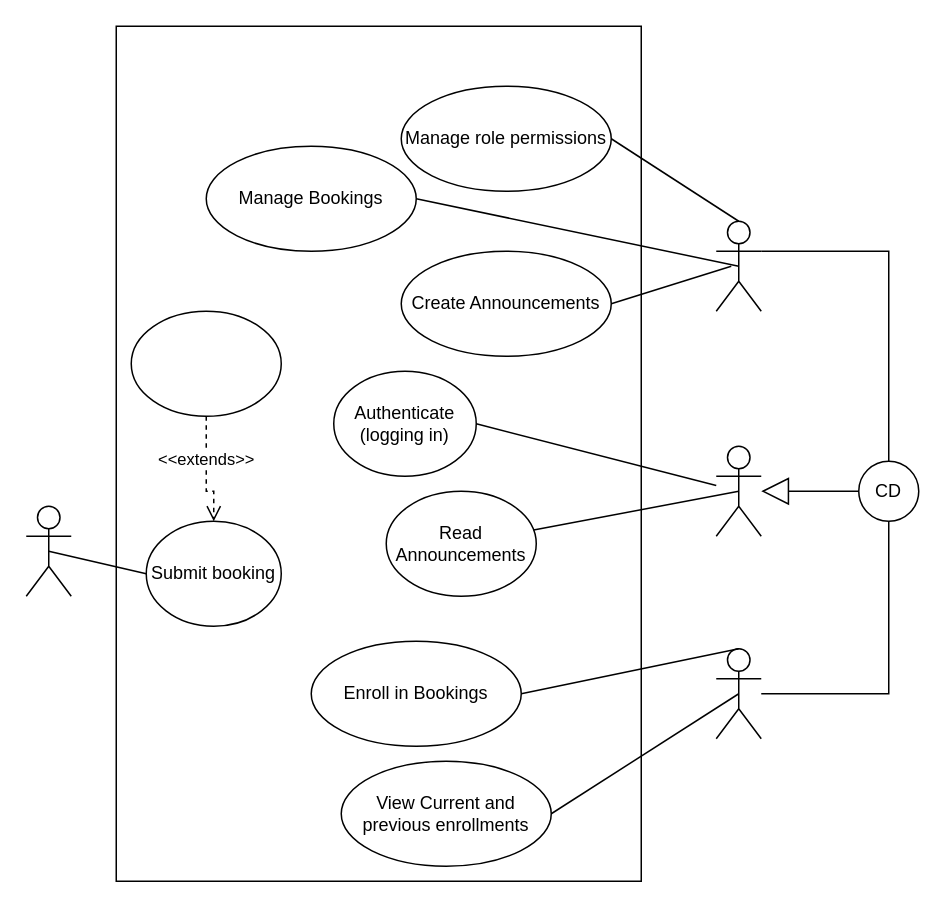
Image size: 945x908. Some labels were removed from this diagram. Each missing label, with the centre of its shape:
Admin: [738,265]
Client: [48,550]
Crew: [738,693]
Staff: [738,490]
Submit multiple bookings: [205,363]
